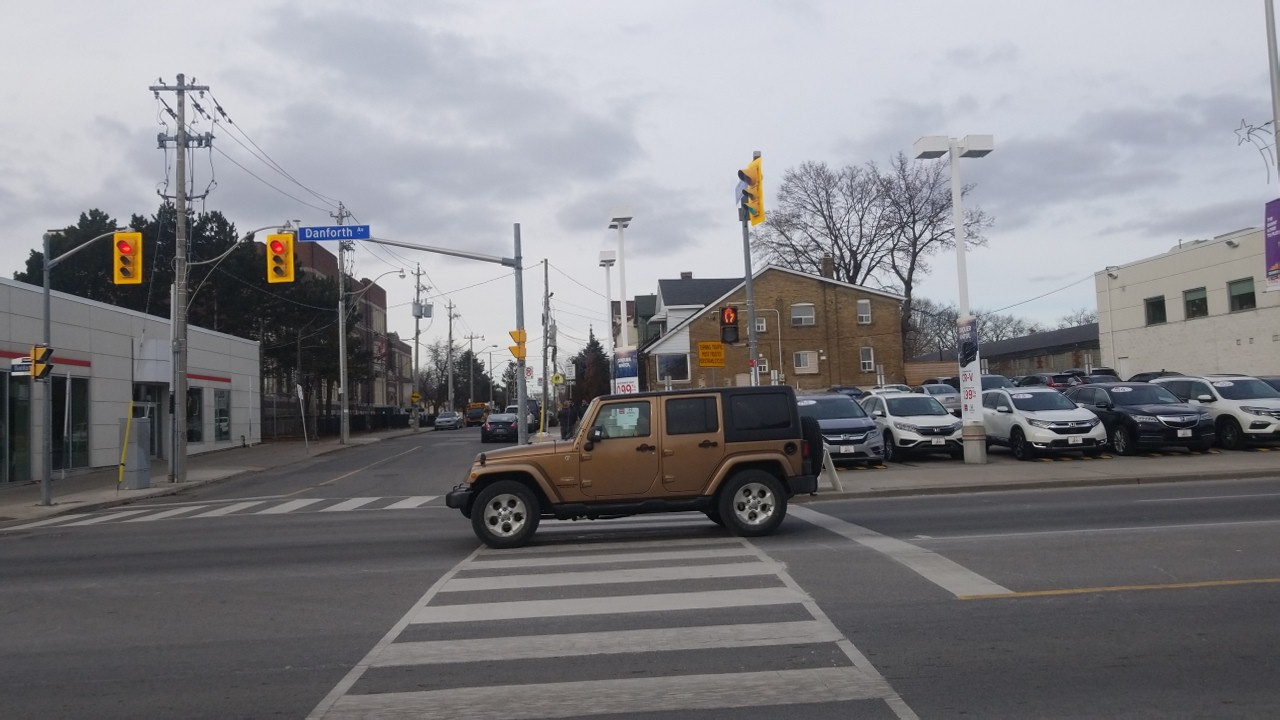light: (717, 303, 740, 344)
